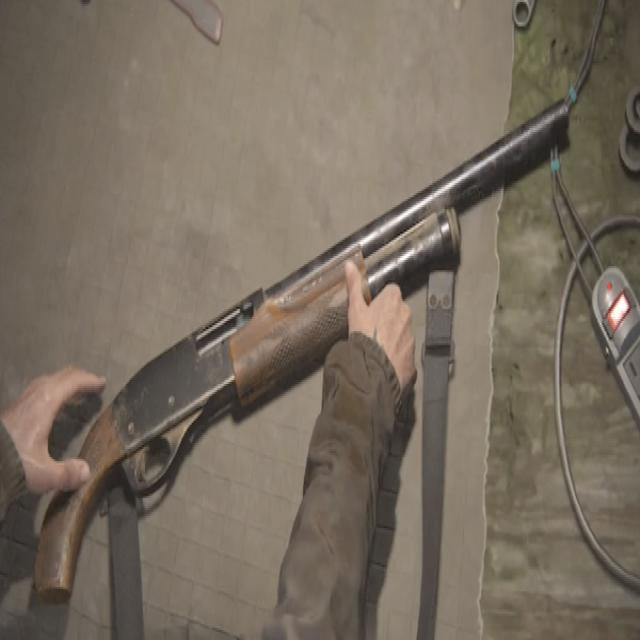ShotGun: (33, 100, 571, 605)
